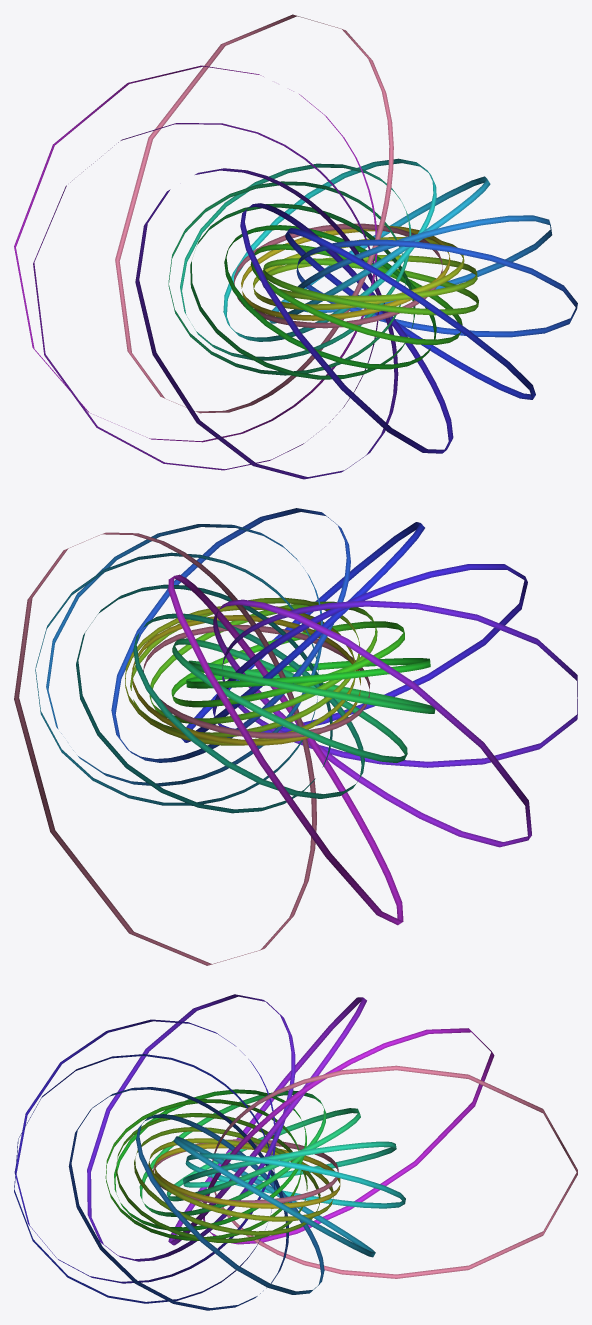
The model's file is hopf_spiral.obj.
3 renders of one model, top to bottom at view 1: azimuth 30°, elevation 25°; view 2: azimuth 150°, elevation 25°; view 3: azimuth 270°, elevation 25°, orthographic. The views are drawn at different scales.
Parts seen in each view (by area): view 1: COMMON; view 2: COMMON; view 3: COMMON.
Boxes of the visible parts, x1,y1,x2,y2 form: COMMON: (14, 14, 577, 479); COMMON: (14, 508, 577, 965); COMMON: (14, 994, 577, 1310).
Bounding box in the file's own units: 27.71 × 18.67 × 32.99.
1 material, 1 textured.
